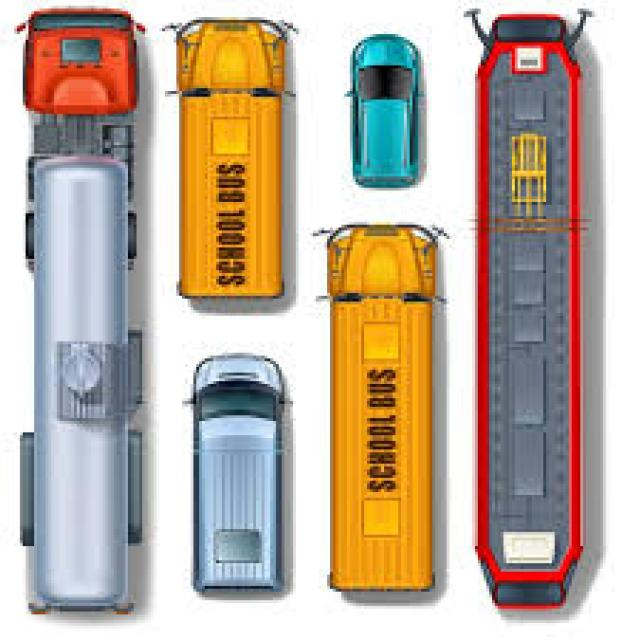truck: (469, 15, 589, 610), (23, 3, 139, 606), (15, 12, 130, 613), (325, 219, 445, 591), (326, 225, 437, 589), (172, 19, 292, 302), (178, 17, 283, 310), (190, 352, 289, 594), (198, 354, 285, 594), (349, 30, 427, 186)
